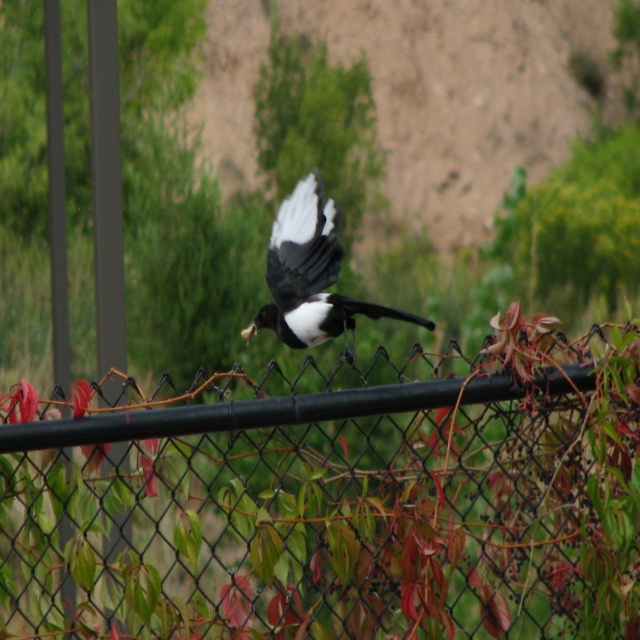Magpie: (249, 171, 440, 358)
